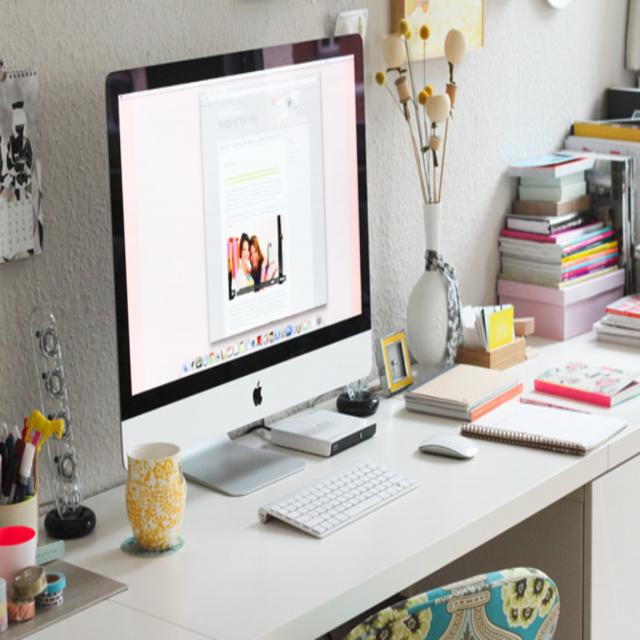desk: (0, 357, 639, 639)
keyboard: (260, 459, 420, 542)
mouse: (419, 433, 477, 460)
tv: (105, 37, 373, 466)
